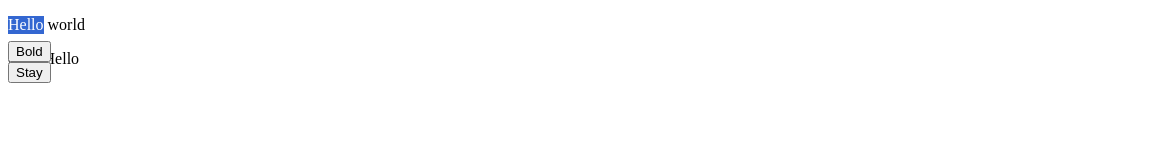
Test: interaction › runs the item handler before closing and restores the selection
This screenshot has width=1152, height=160.
What coordinates should you click on to do the following:
click the button "Bold"
I would click on:
 (29, 52)
Its box is [8,41,51,62].
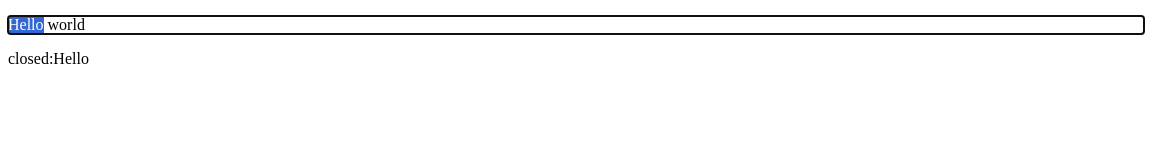
expect the text with test id "state" reads "closed:Hello": met, box [8,50,89,67]
